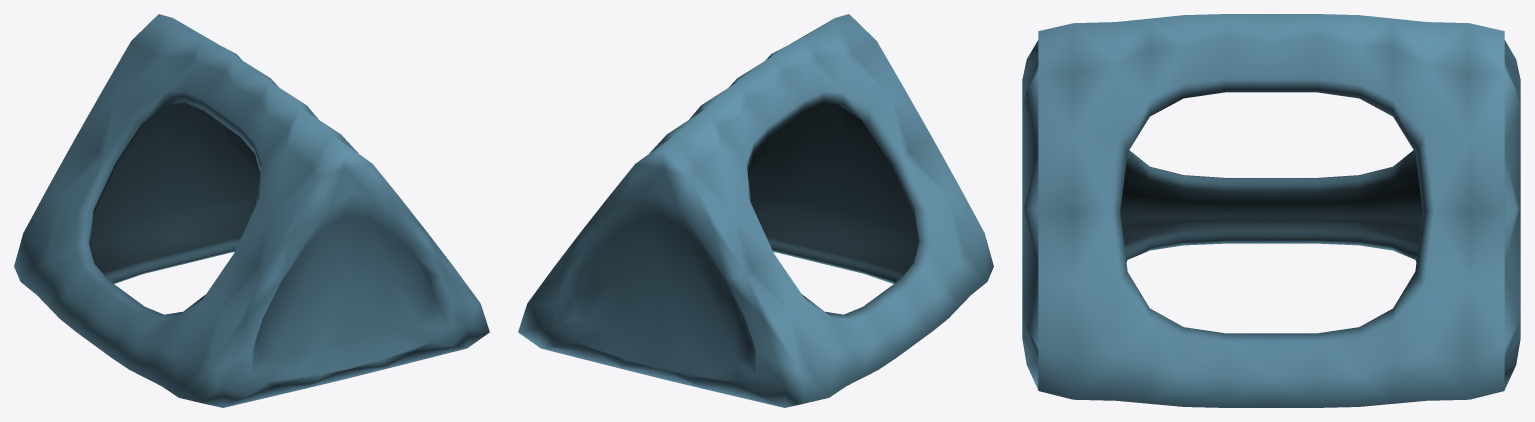
File: microscopic-plankton-triangular-diatom_v1.glb
3 views of the same model, side by side, from view 1: azimuth 30°, elevation 25°; view 2: azimuth 150°, elevation 25°; view 3: azimuth 270°, elevation 25° (orthographic). The views are drawn at different scales.
Visible parts, largest first — view 1: Triangular Diatom; view 2: Triangular Diatom; view 3: Triangular Diatom.
Part boxes in pixels (box(x1,y1,x2,y2)): Triangular Diatom: box(14, 14, 489, 407); Triangular Diatom: box(518, 14, 993, 407); Triangular Diatom: box(1022, 14, 1520, 407).
Size of the model in its own units: 0.458 by 0.3394 by 0.5.
